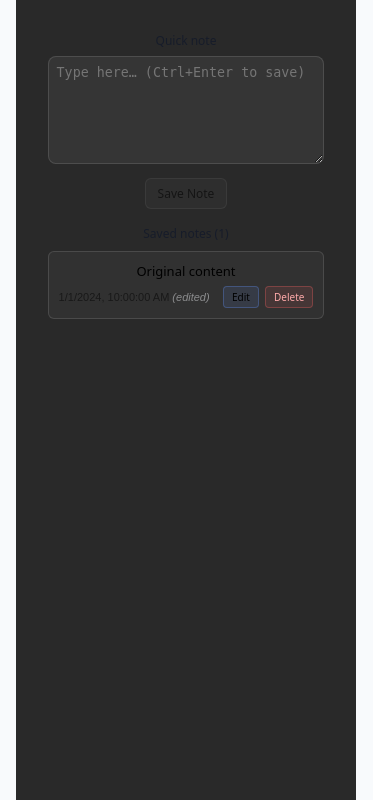
Test: NotesWidget - Core Functionality › Editing notes when logged in › should not update note with empty content
Enter edit mode
Click the button "Edit" at x=241, y=297, box [223,286,259,308]
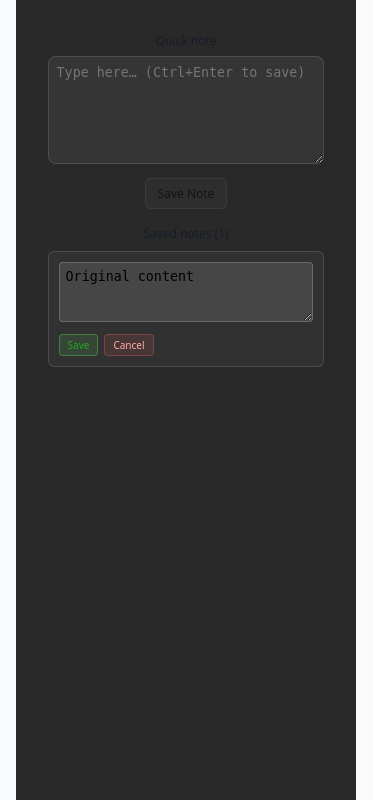
Clear content
Clear the text box showing "Original content" at x=186, y=292, box [59,262,313,322]
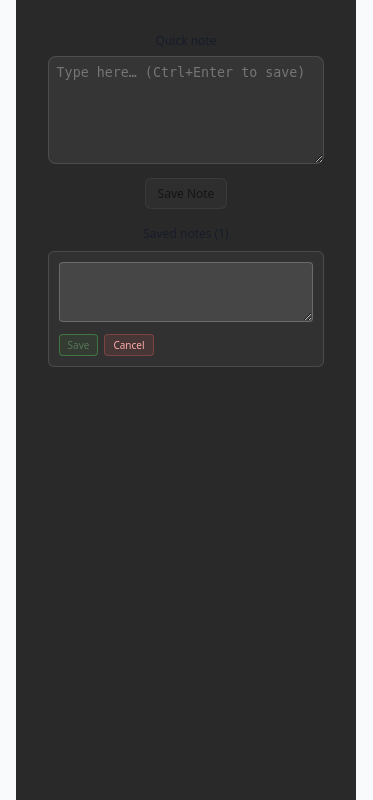
Result: the button "Save" is disabled at [59,334,98,356]
